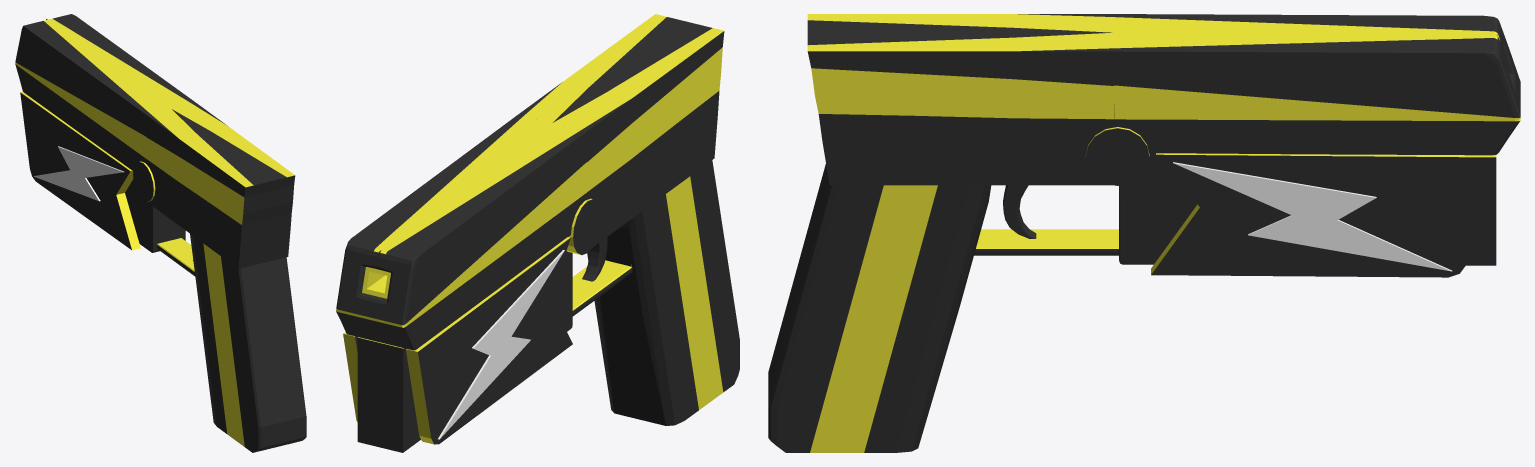
The picture shows the model from 3 angles, left to right: view 1: azimuth 30°, elevation 25°; view 2: azimuth 150°, elevation 25°; view 3: azimuth 270°, elevation 25°; orthographic projection. The views are drawn at different scales.
Visible parts, largest first — view 1: 平面, 円柱.001, 円柱; view 2: 平面, 円柱.001, 円柱; view 3: 平面, 円柱.001, 円柱.
Boxes of the visible parts, x1,y1,x2,y2 form: 平面: (15,14,306,452); 円柱.001: (20,91,185,250); 円柱: (125,161,185,252); 平面: (336,14,739,425); 円柱.001: (343,237,572,444); 円柱: (357,198,601,452); 平面: (768,14,1520,452); 円柱.001: (1151,153,1496,277); 円柱: (1085,127,1496,265).
Bounding box in the file's own units: 0.0342 × 0.15 × 0.2548.
